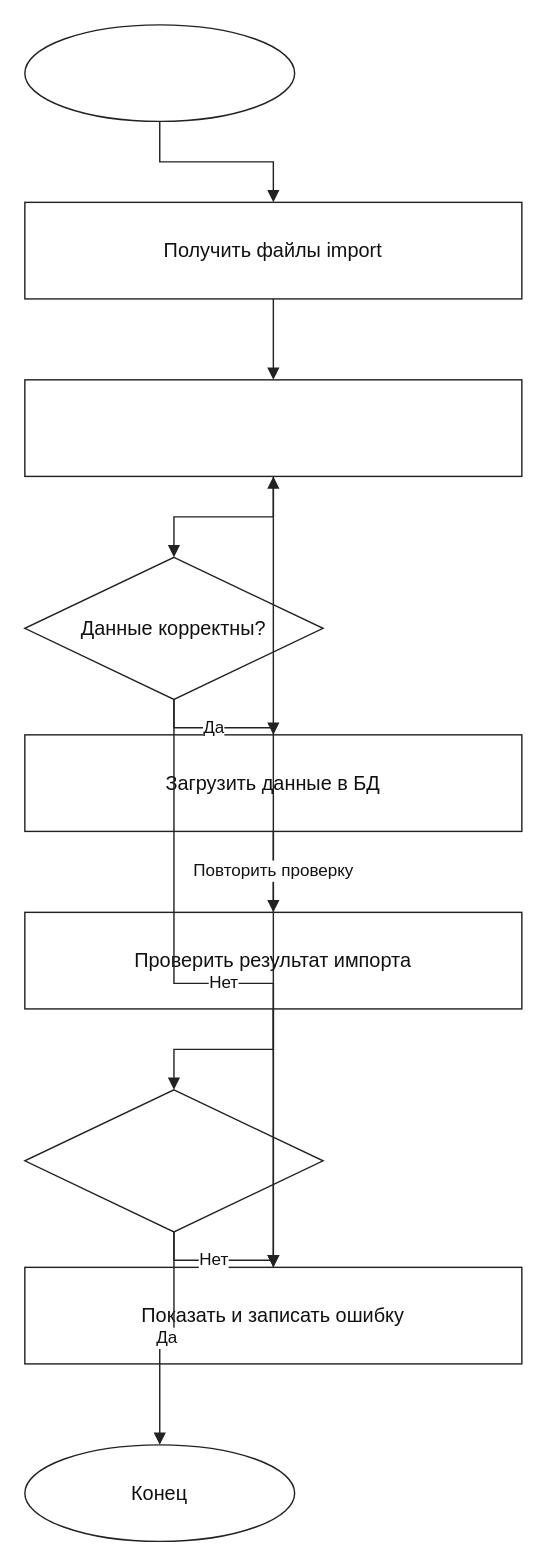
The diagram is 547 pixels wide and 1566 high, and some of its shapes have lost their labels. Here are the shapes that lost their labels. From the top down, the centre of each, then its label:
point 159,72: Начало
point 272,427: Проверить кодировку, обязательные поля и связи
point 173,1160: Импорт успешен?
